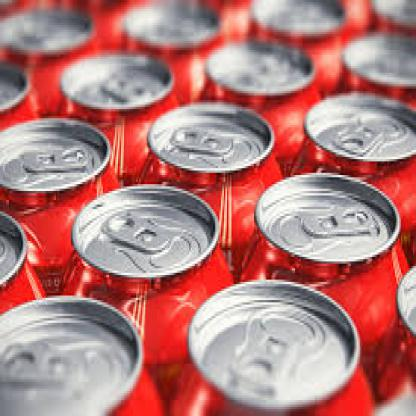METAL: (56, 175, 242, 400), (236, 168, 408, 380), (165, 275, 374, 414), (125, 98, 283, 273), (280, 89, 414, 241), (0, 293, 165, 414), (0, 116, 124, 277), (47, 41, 186, 168), (195, 36, 325, 166), (330, 30, 414, 109), (0, 204, 58, 314), (374, 264, 414, 414), (0, 59, 47, 121)
